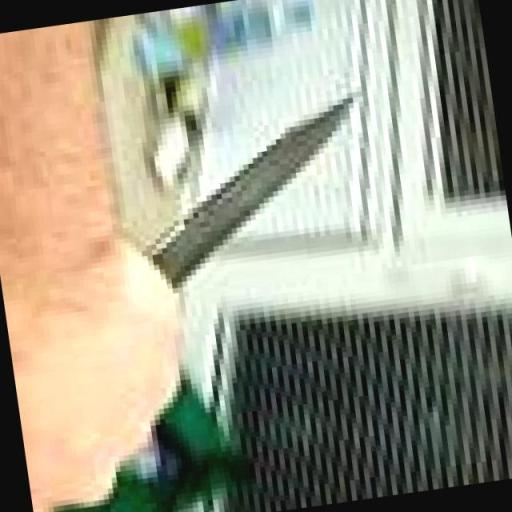knife: (112, 74, 396, 288)
